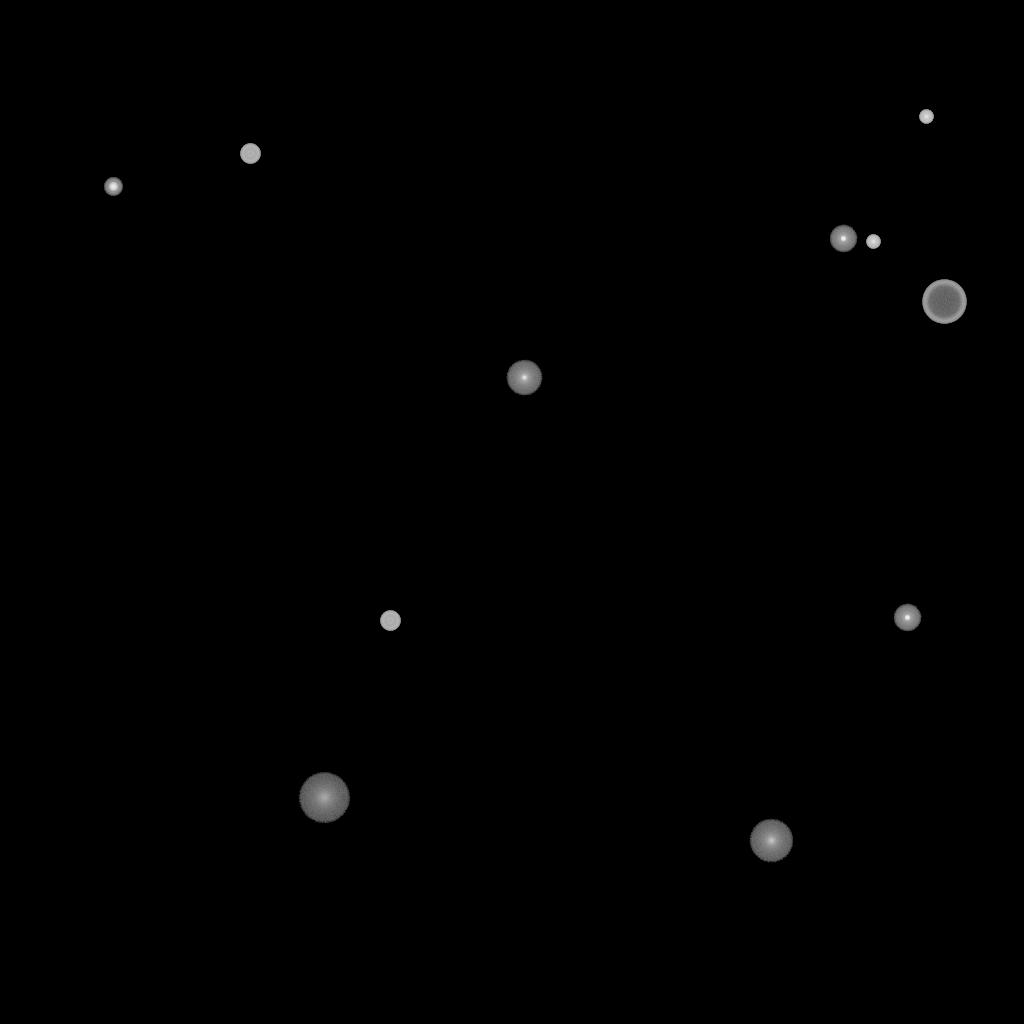depth:-10: (893, 604, 921, 632), (829, 225, 857, 253)
depth:-20: (104, 178, 122, 196)
depth:-30: (919, 110, 933, 124), (866, 235, 880, 249)
depth:-40: (240, 144, 260, 164), (380, 611, 400, 631)
depth:-70: (922, 280, 966, 324)
depth:0: (506, 360, 542, 396)
depth:10: (749, 819, 793, 863)
depth:20: (298, 773, 350, 823)
